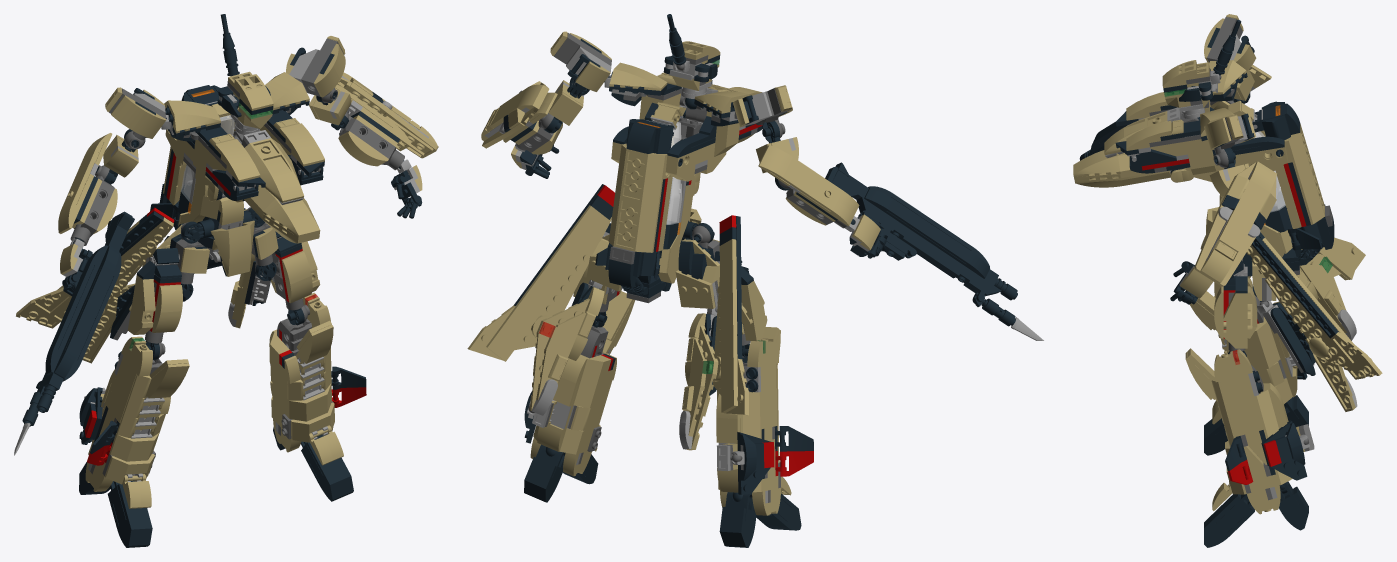
Rendered from yf-19-alpha-one-battroid.dae.
The picture shows the model from 3 angles, left to right: view 1: azimuth 30°, elevation 25°; view 2: azimuth 150°, elevation 25°; view 3: azimuth 270°, elevation 25°; orthographic projection. The views are drawn at different scales.
Size of the model in its own units: 900 by 517 by 883.
